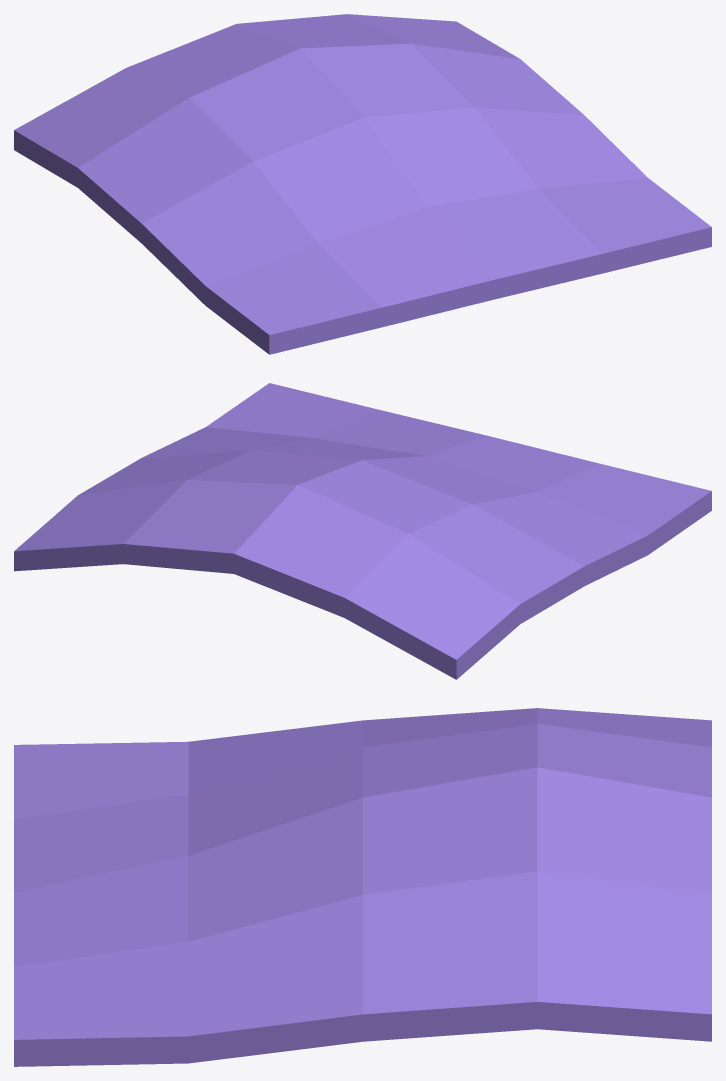
Rendered from basura1.fbx.
3 views of the same model, one above another, from view 1: azimuth 30°, elevation 25°; view 2: azimuth 150°, elevation 25°; view 3: azimuth 270°, elevation 25° (orthographic). The views are drawn at different scales.
Visible parts, largest first — view 1: Cube; view 2: Cube; view 3: Cube.
Boxes of the visible parts, box(x1,y1,x2,y2) form: Cube: box(14, 14, 711, 354); Cube: box(14, 383, 711, 679); Cube: box(14, 708, 711, 1066).
Bounding box in the file's own units: 533 × 129 × 533.
